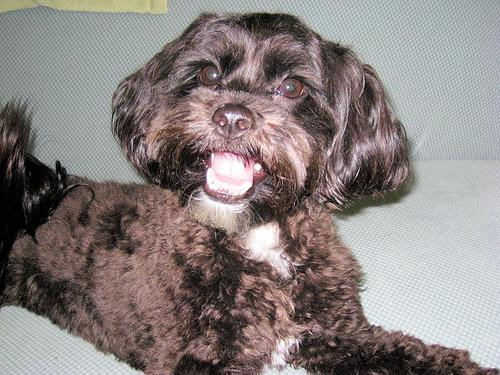dog-havanese: (112, 10, 407, 212)
